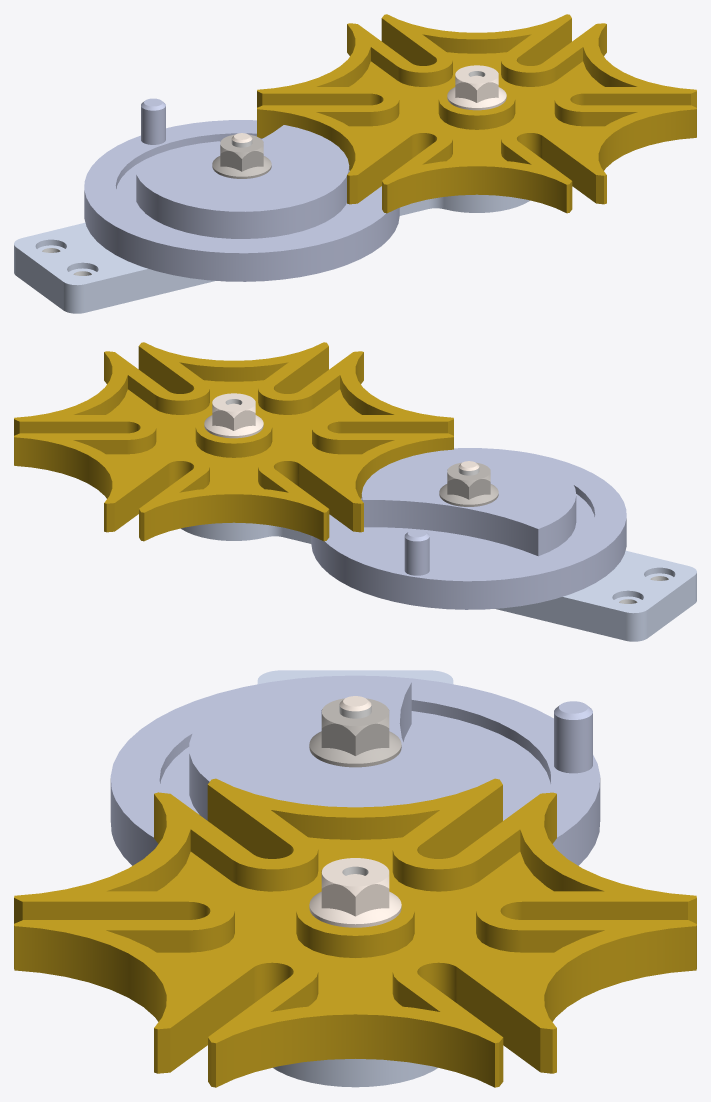
Rendered from Geneva_Wheel.gltf.
3 views of the same model, one above another, from view 1: azimuth 30°, elevation 25°; view 2: azimuth 150°, elevation 25°; view 3: azimuth 270°, elevation 25° (orthographic). The views are drawn at different scales.
Visible parts, largest first — view 1: Geneva Gear-1, Wheel-1, Base-1, Whiz nut-1, Whiz nut-2; view 2: Geneva Gear-1, Wheel-1, Base-1, Whiz nut-1, Whiz nut-2; view 3: Geneva Gear-1, Wheel-1, Base-1, Whiz nut-1, Whiz nut-2, Shoulder Bolt-1.
Part boxes in pixels (<box>): Geneva Gear-1: <box>257,14,696,213</box>; Wheel-1: <box>84,98,399,281</box>; Base-1: <box>14,194,529,313</box>; Whiz nut-1: <box>447,65,506,110</box>; Whiz nut-2: <box>212,134,271,178</box>; Geneva Gear-1: <box>14,342,453,541</box>; Wheel-1: <box>311,448,626,609</box>; Base-1: <box>181,522,696,641</box>; Whiz nut-1: <box>204,393,263,438</box>; Whiz nut-2: <box>439,462,498,506</box>; Geneva Gear-1: <box>14,778,696,1087</box>; Wheel-1: <box>110,675,600,865</box>; Base-1: <box>257,670,453,1087</box>; Whiz nut-1: <box>309,858,401,927</box>; Whiz nut-2: <box>309,698,401,767</box>; Shoulder Bolt-1: <box>339,696,371,718</box>.
Bounding box in the file's own units: 0.1422 × 0.0288 × 0.0885.
